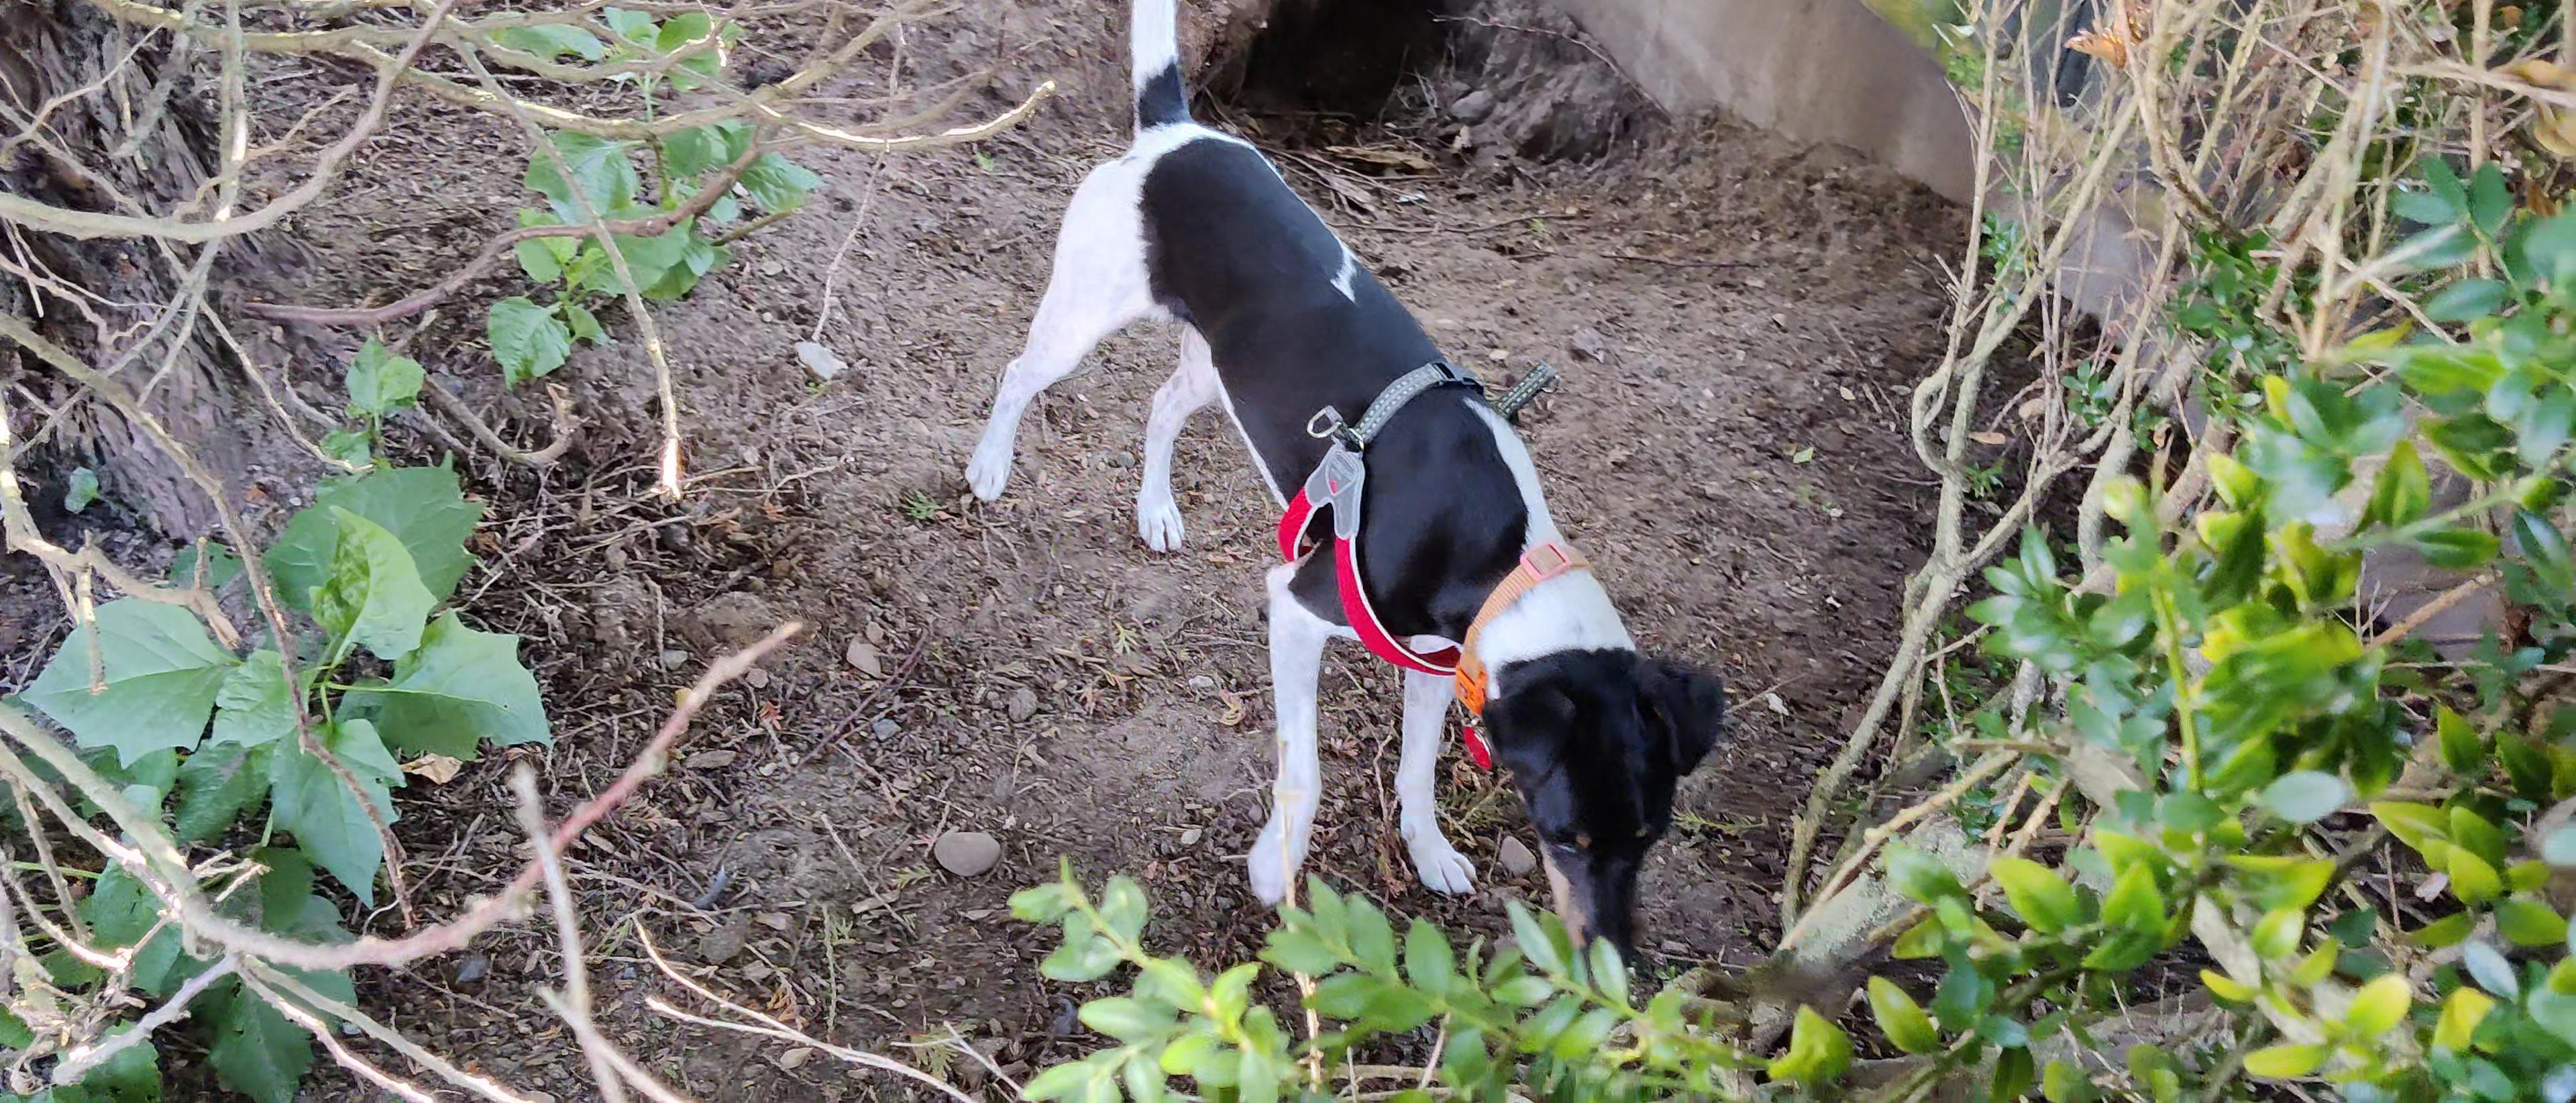Dog: (943, 0, 1745, 996)
